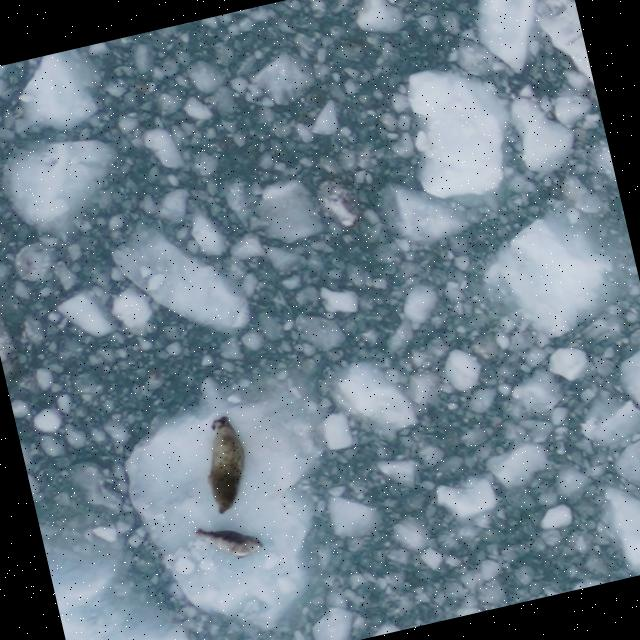seal: (189, 407, 262, 519), (188, 509, 268, 570)
